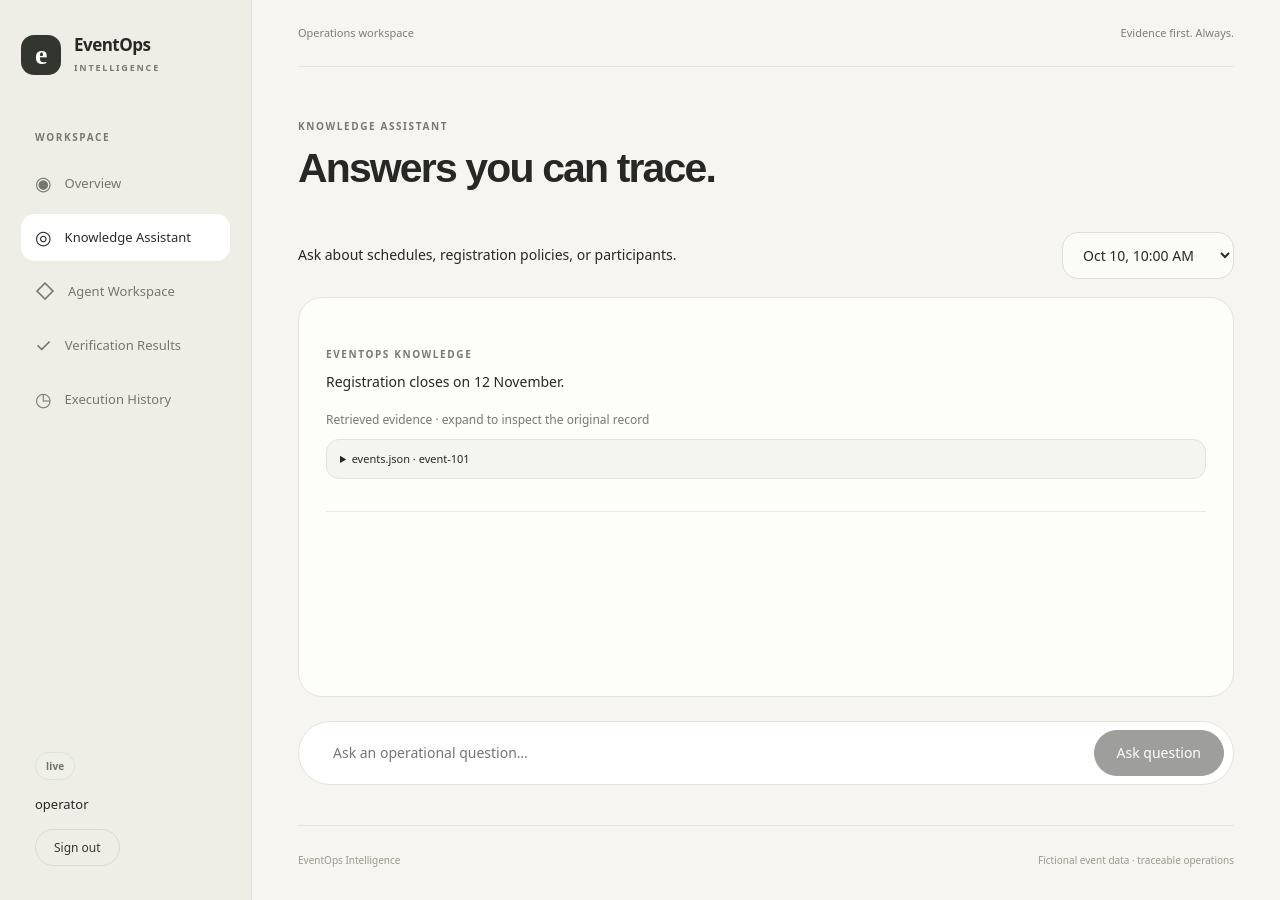
it: workspace journeys › restores saved messages and original evidence
(page scrolled)
Expected: the text "Registration closes on 12 November." is shown, [326,372,564,391]
Click the heading "events.json · event-101" at (411,459), box [352,451,470,466]
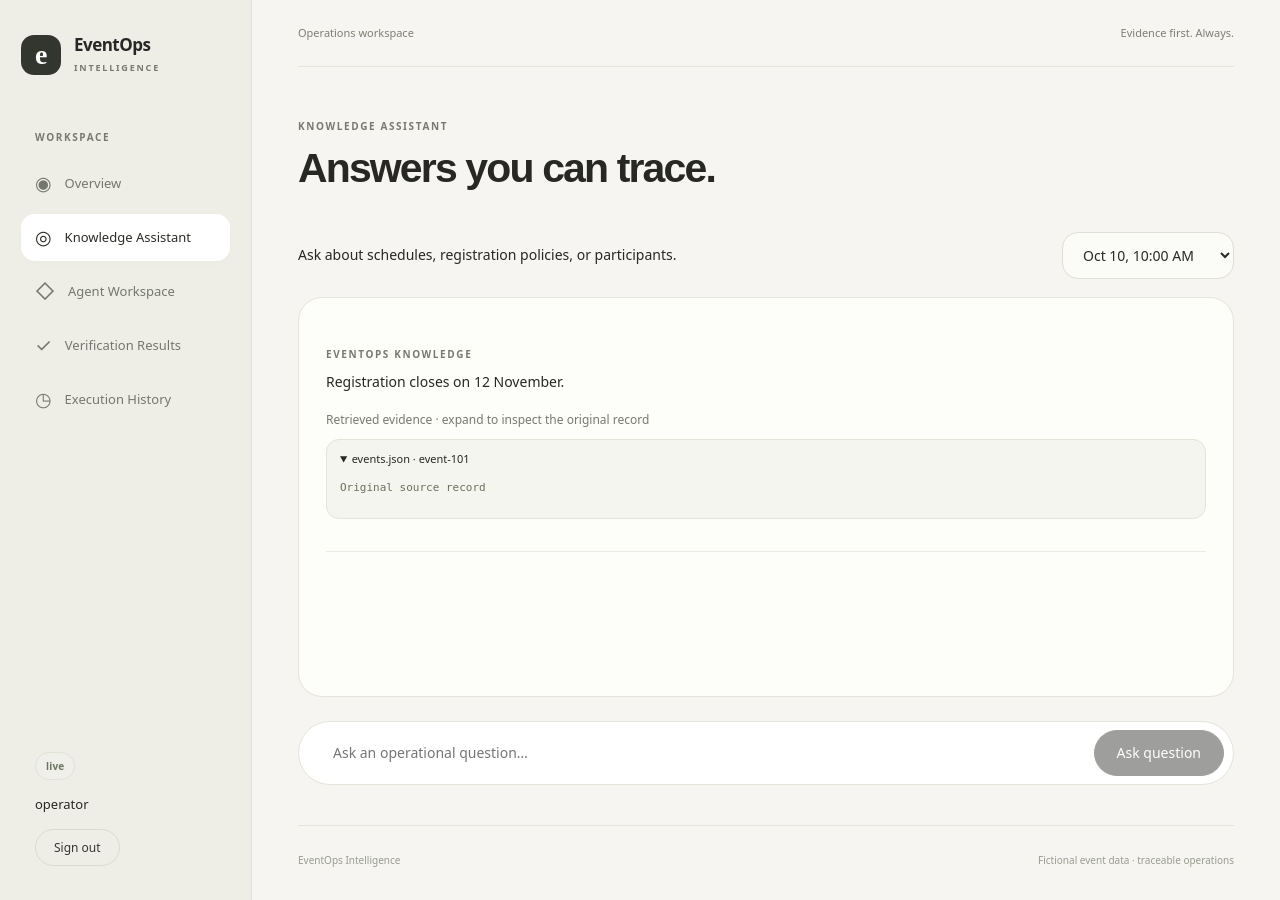
Result: the text "Original source record" is shown at [340,481,486,494]
